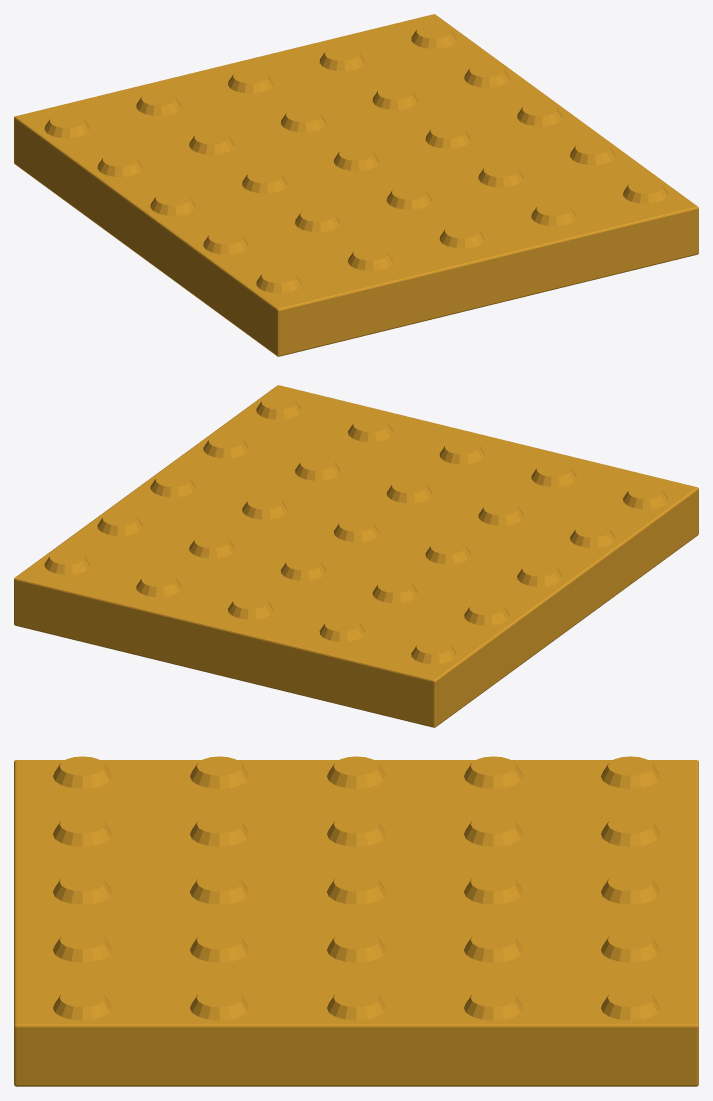
Rendered from edited.glb.
3 renders of one model, top to bottom at view 1: azimuth 30°, elevation 25°; view 2: azimuth 150°, elevation 25°; view 3: azimuth 270°, elevation 25°, orthographic. The views are drawn at different scales.
Parts seen in each view (by area): view 1: TILE_Base, WARNING_Stud, WARNING_Stud.001, WARNING_Stud.022, WARNING_Stud.007, WARNING_Stud.010, WARNING_Stud.016, WARNING_Stud.023, WARNING_Stud.004, WARNING_Stud.008, WARNING_Stud.014, WARNING_Stud.015 (+14 smaller); view 2: TILE_Base, WARNING_Stud.004, WARNING_Stud.003, WARNING_Stud.022, WARNING_Stud.007, WARNING_Stud.014, WARNING_Stud.018, WARNING_Stud.021, WARNING_Stud, WARNING_Stud.006, WARNING_Stud.010, WARNING_Stud.019 (+14 smaller); view 3: TILE_Base, WARNING_Stud.005, WARNING_Stud.006, WARNING_Stud.007, WARNING_Stud.008, WARNING_Stud.009, WARNING_Stud.010, WARNING_Stud.011, WARNING_Stud.012, WARNING_Stud.013, WARNING_Stud.014, WARNING_Stud (+14 smaller).
Boxes of the visible parts, x1,y1,x2,y2 form: TILE_Base: (14,14,698,356); WARNING_Stud: (256,268,301,293); WARNING_Stud.001: (203,229,248,254); WARNING_Stud.022: (517,101,562,126); WARNING_Stud.007: (242,168,287,193); WARNING_Stud.010: (439,223,484,248); WARNING_Stud.016: (478,162,523,187); WARNING_Stud.023: (464,62,509,87); WARNING_Stud.004: (44,113,89,138); WARNING_Stud.008: (189,129,234,154); WARNING_Stud.014: (228,68,273,93); WARNING_Stud.015: (531,201,576,226); TILE_Base: (14,385,698,727); WARNING_Stud.004: (411,639,456,664); WARNING_Stud.003: (464,600,509,625); WARNING_Stud.022: (150,472,195,497); WARNING_Stud.007: (425,539,470,564); WARNING_Stud.014: (228,594,273,619); WARNING_Stud.018: (189,533,234,558); WARNING_Stud.021: (203,433,248,458); WARNING_Stud: (623,484,668,509); WARNING_Stud.006: (478,500,523,525); WARNING_Stud.010: (439,439,484,464); WARNING_Stud.019: (136,572,181,597); TILE_Base: (14,760,698,1086); WARNING_Stud.005: (53,814,111,846); WARNING_Stud.006: (190,814,248,846); WARNING_Stud.007: (327,814,385,846); WARNING_Stud.008: (464,814,522,846); WARNING_Stud.009: (601,814,659,846); WARNING_Stud.010: (53,872,111,904); WARNING_Stud.011: (190,872,248,904); WARNING_Stud.012: (327,872,385,904); WARNING_Stud.013: (464,872,522,904); WARNING_Stud.014: (601,872,659,904); WARNING_Stud: (53,756,111,788).
Size of the model in its own units: 0.276 by 0.035 by 0.3.
